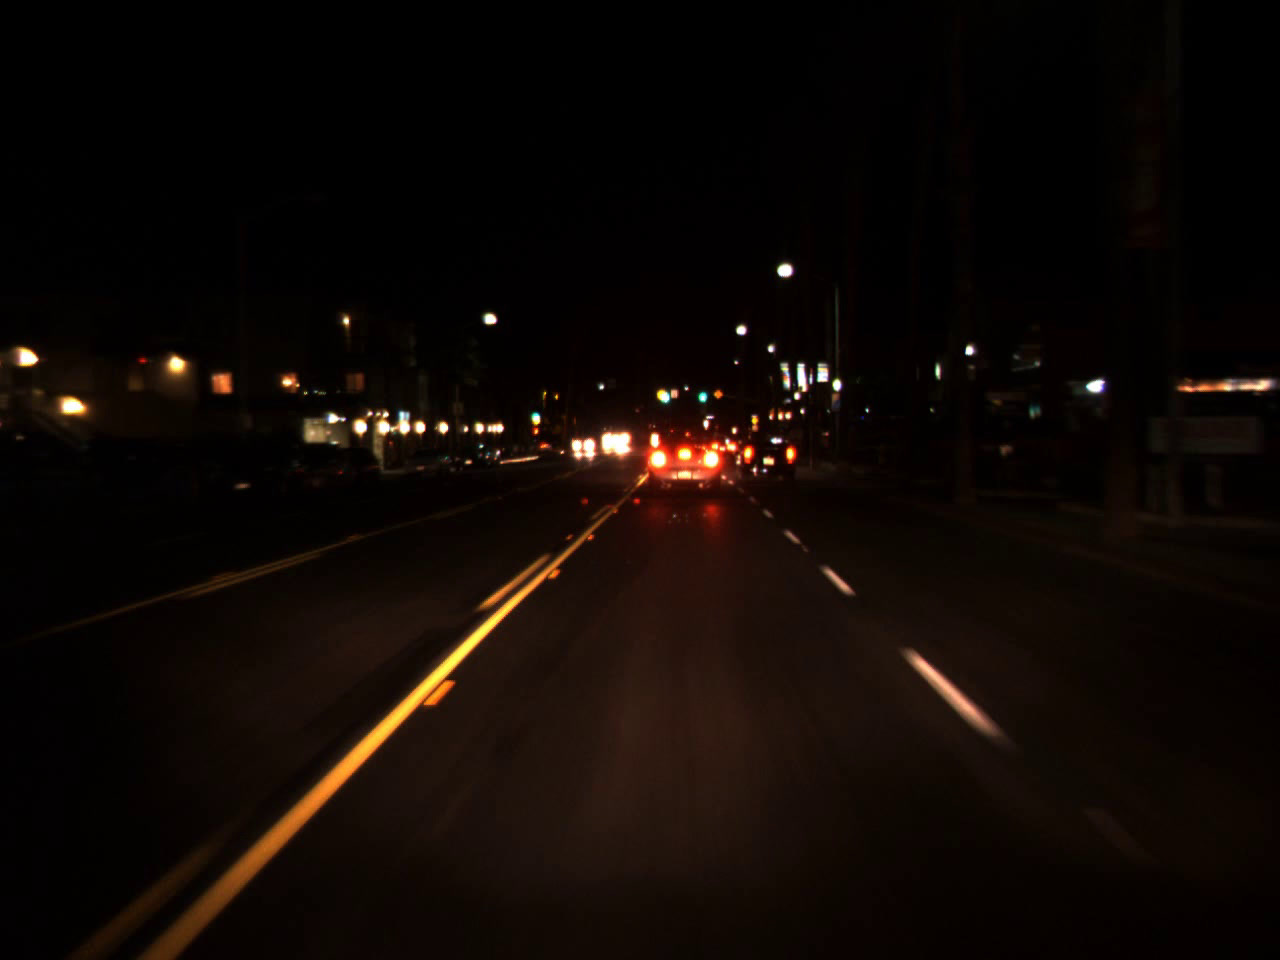go: (658, 380, 670, 407), (697, 379, 707, 406), (528, 403, 542, 421)
